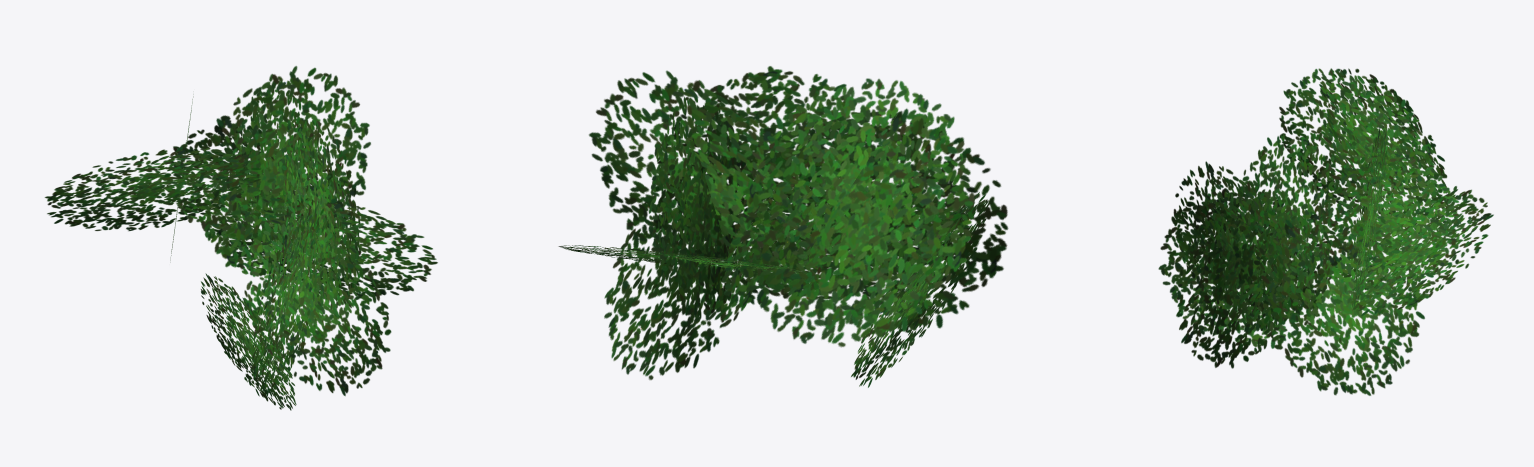
Rendered from bush_a.glb.
The picture shows the model from 3 angles, left to right: view 1: azimuth 30°, elevation 25°; view 2: azimuth 150°, elevation 25°; view 3: azimuth 270°, elevation 25°; orthographic projection. The views are drawn at different scales.
Parts seen in each view (by area): view 1: bush_a; view 2: bush_a; view 3: bush_a.
Part boxes in pixels (<box>): bush_a: <box>45,66,437,410</box>; bush_a: <box>558,66,1008,387</box>; bush_a: <box>1158,68,1493,395</box>.
Size of the model in its own units: 0.808 by 0.7298 by 0.7559.
1 material, 1 textured.
